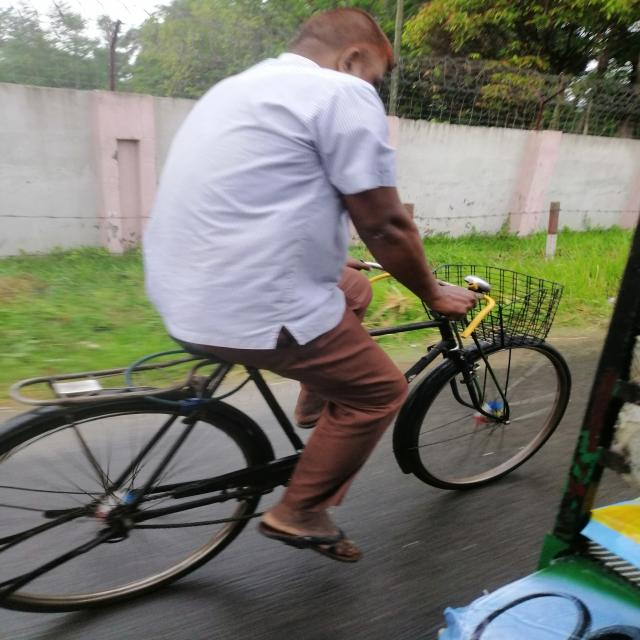Bicycle: (1, 261, 572, 640)
